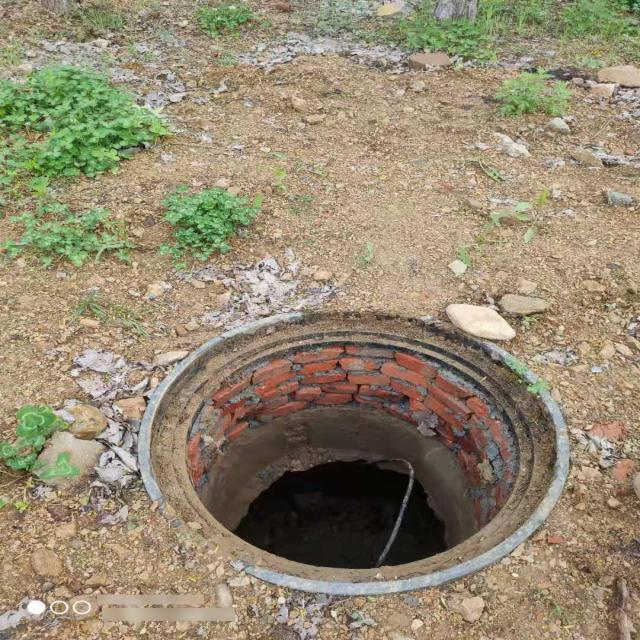Faulty: (140, 308, 574, 596)
